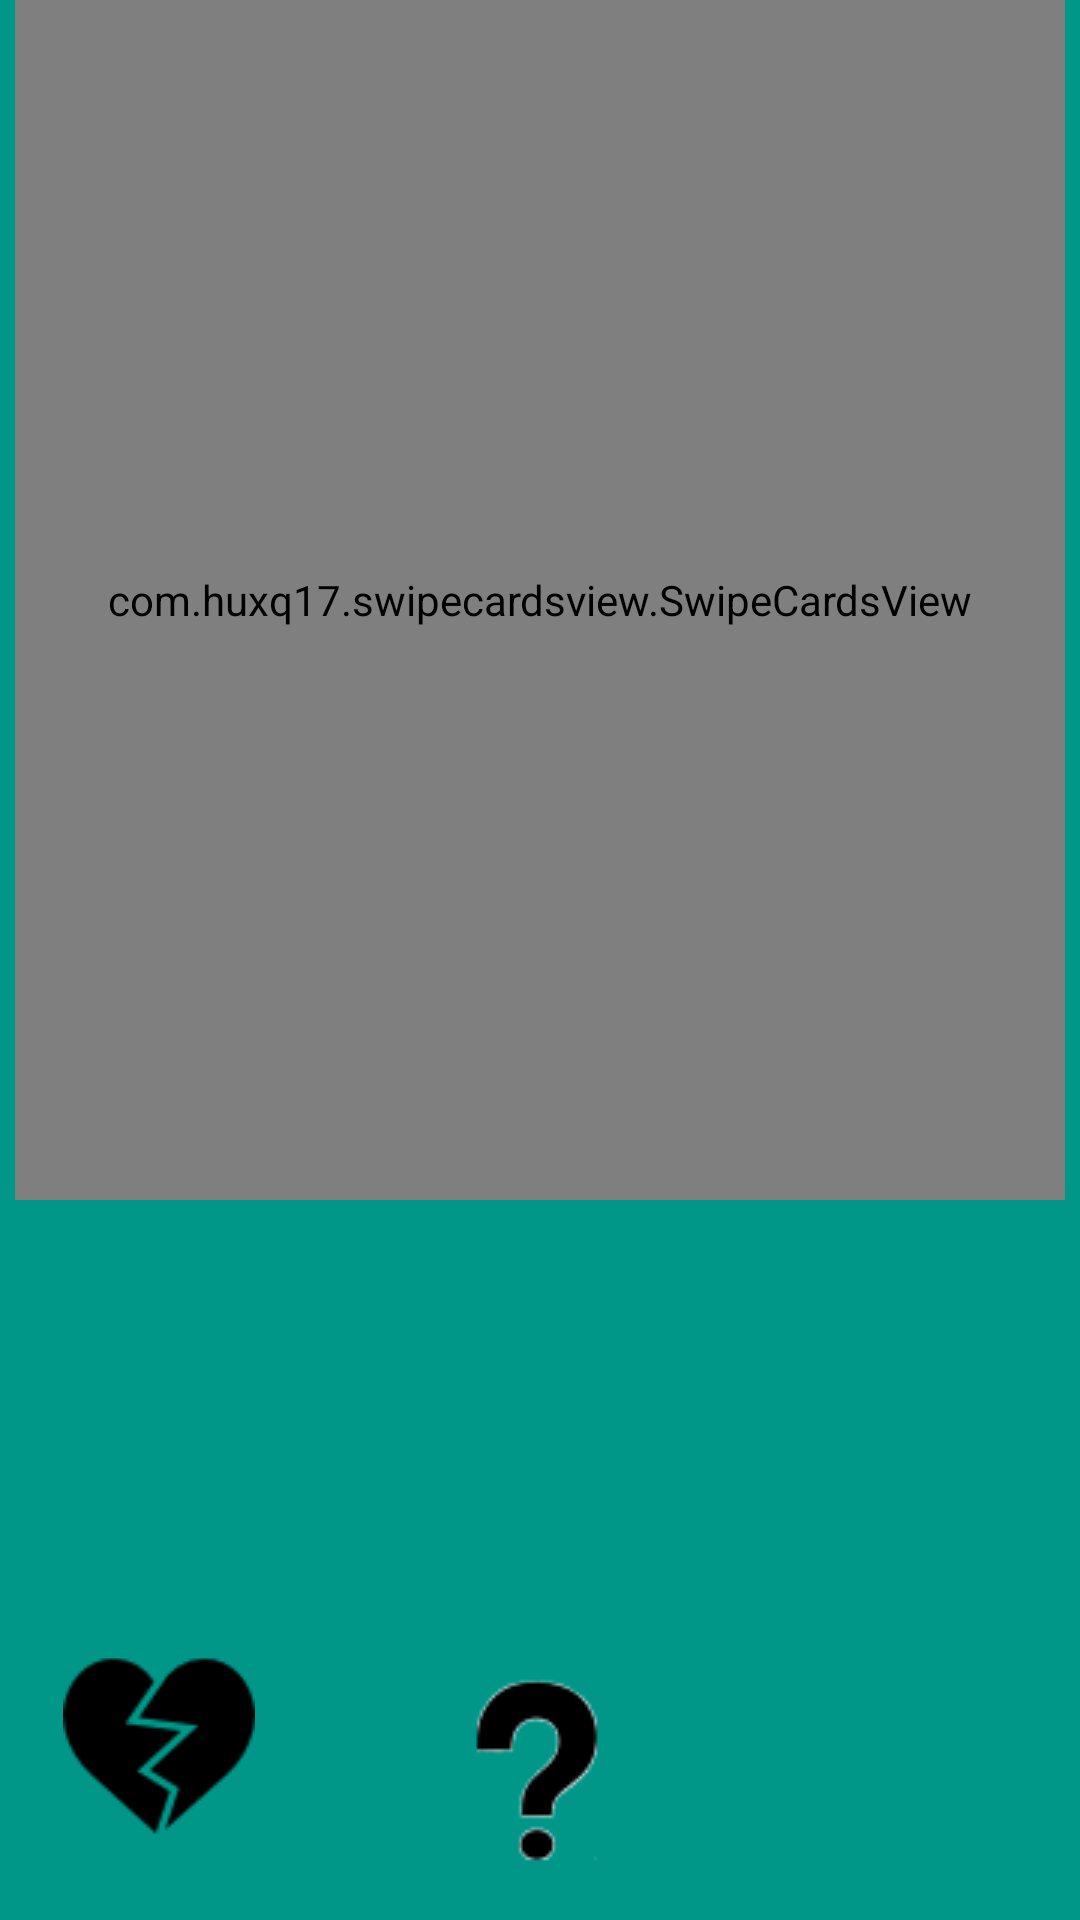

Named icons in this screenshot (1080 × 1920) and their centers, [x,y]:
dislike: [159,1746]
interrogante: [537,1770]
